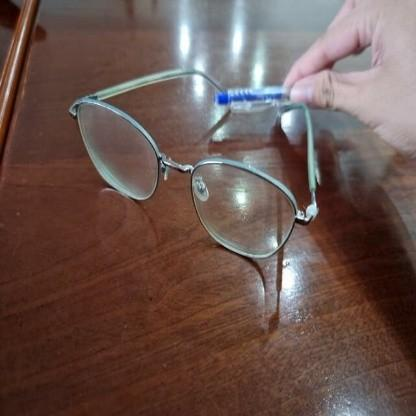not trash: (56, 54, 340, 276), (205, 76, 291, 113)
